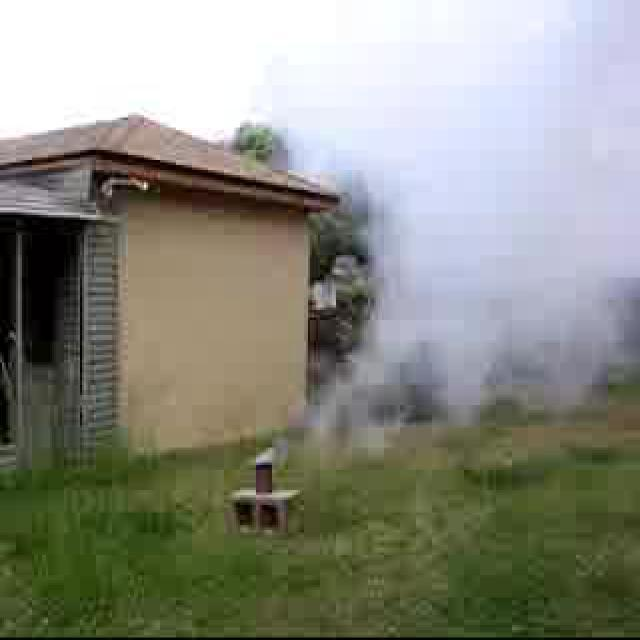Smoke: (373, 100, 616, 406)
